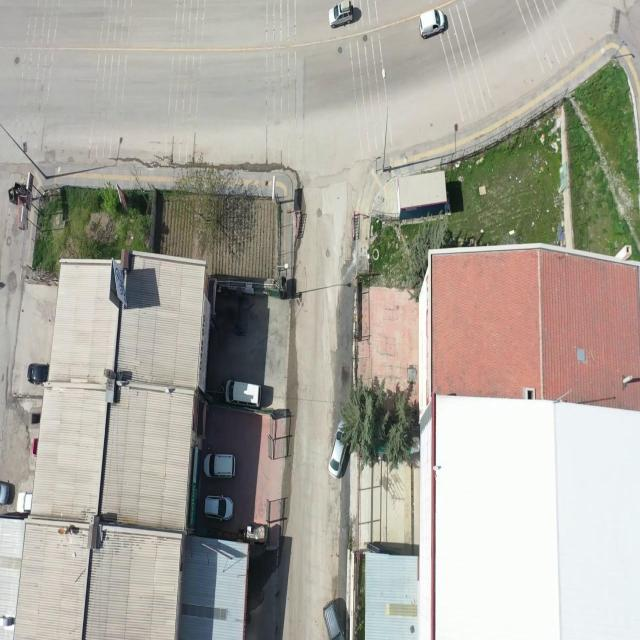p3rson: (222, 380, 224, 392)
